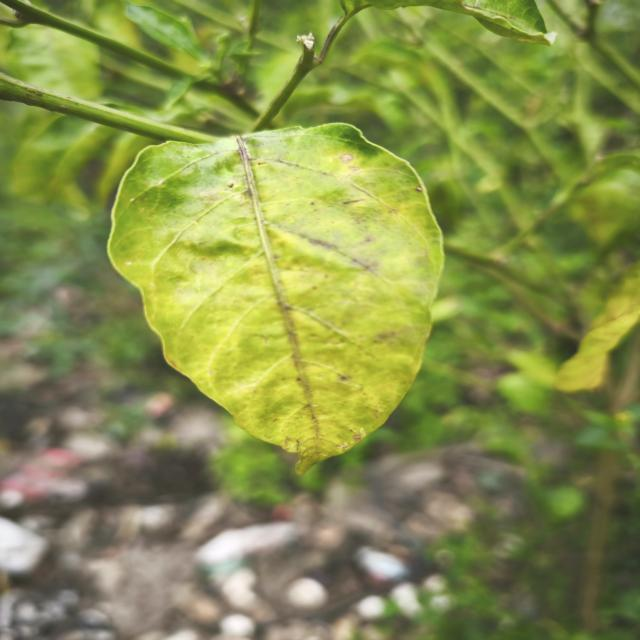Virus Kuning: (106, 121, 446, 476)
